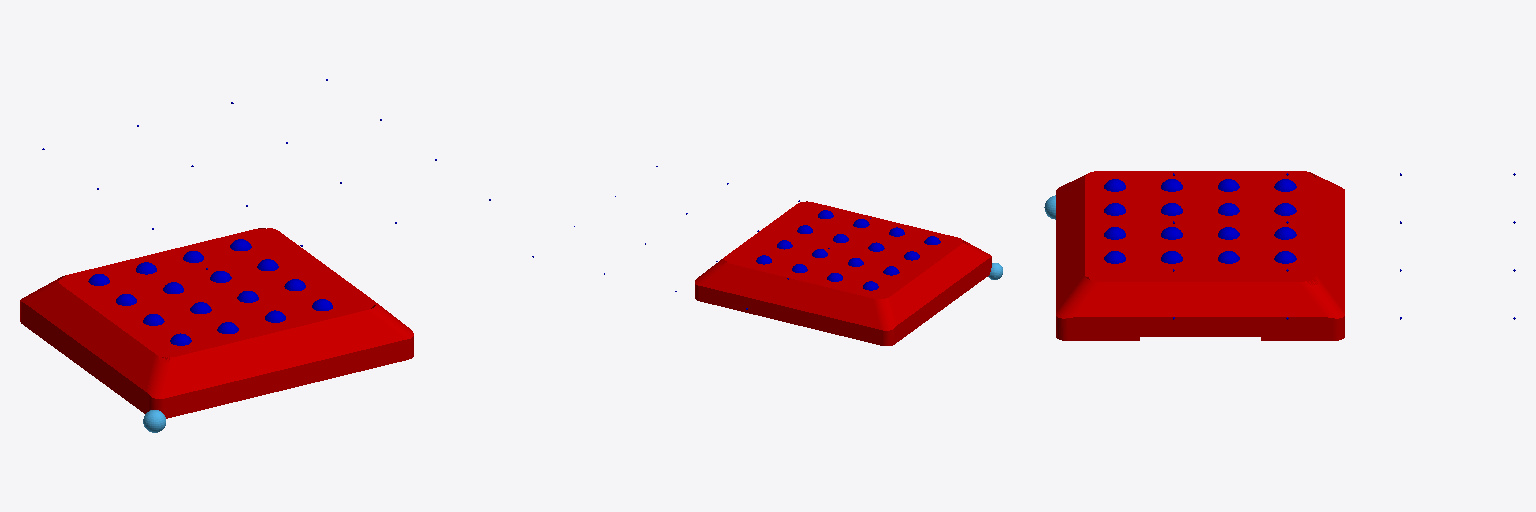
--- What the picture shows (computed from the rendered views, not written in the file) ---
The picture shows the robot from 3 angles, left to right: view 1: azimuth 30°, elevation 25°; view 2: azimuth 150°, elevation 25°; view 3: azimuth 270°, elevation 25°; orthographic projection.
Robot: 4x4 — 51 links, 50 joints (48 prismatic, 2 fixed); root link world; default pose: all joints at 0.
Links seen in each view (by area): view 1: 1_4x4_base_link; view 2: 1_4x4_base_link; view 3: 1_4x4_base_link.
Boxes of the visible links, x1,y1,x2,y2 form: 1_4x4_base_link: [20, 228, 413, 418]; 1_4x4_base_link: [695, 201, 991, 345]; 1_4x4_base_link: [1056, 171, 1344, 340].
Size in the robot's own frame: 0.0398 by 0.0387 by 0.0091 metres.
Meshes: 1 distinct files referenced, 1 mesh visuals loaded (1 binary STL).

The robot description file, URDF, robot "4x4":
<?xml version="1.0" ?>
<!-- =================================================================================== -->
<!-- |    This document was autogenerated by xacro from 4x4.xacro                      | -->
<!-- |    EDITING THIS FILE BY HAND IS NOT RECOMMENDED                                 | -->
<!-- =================================================================================== -->
<robot name="4x4">
  <!-- Rviz colors -->
  <material name="black">
    <color rgba="0.0 0.0 0.0 1.0"/>
  </material>
  <material name="blue">
    <color rgba="0.0 0.0 0.8 1.0"/>
  </material>
  <material name="green">
    <color rgba="0.0 0.8 0.0 1.0"/>
  </material>
  <material name="grey">
    <color rgba="0.2 0.2 0.2 1.0"/>
  </material>
  <material name="orange">
    <color rgba="1.0 0.4235294117647059 0.0392156862745098 1.0"/>
  </material>
  <material name="brown">
    <color rgba="0.8705882352941177 0.8117647058823529 0.7647058823529411 1.0"/>
  </material>
  <material name="red">
    <color rgba="0.8 0.0 0.0 1.0"/>
  </material>
  <material name="white">
    <color rgba="1.0 1.0 1.0 1.0"/>
  </material>
  <!-- Used for fixing robot to Gazebo 'base_link' -->
  <link name="world"/>
  <!-- Base Link -->
  <joint name="fixed" type="fixed">
    <parent link="world"/>
    <child link="base_link"/>
  </joint>
  <link name="base_link">
    <visual>
      <geometry>
        <sphere radius="0.001"/>
      </geometry>
      <origin rpy="0 0 0" xyz="0.0 0.0 0.0"/>
    </visual>
    <collision>
      <geometry>
        <sphere radius="0.001"/>
      </geometry>
    </collision>
  </link>
  <joint name="1_4x4_fixed" type="fixed">
    <origin rpy="0.0 0.0 0.0" xyz="0.0 0.0 0.0"/>
    <parent link="base_link"/>
    <child link="1_4x4_base_link"/>
  </joint>
  <link name="1_4x4_base_link">
    <collision>
      <origin rpy="0 0 0" xyz="0 0 0"/>
      <geometry>
        <mesh filename="package://xela_models/mesh/4x4.stl" scale="1 1 1"/>
      </geometry>
    </collision>
    <visual>
      <origin rpy="0 0 0" xyz="0 0 0"/>
      <geometry>
        <mesh filename="package://xela_models/mesh/4x4.stl" scale="1 1 1"/>
      </geometry>
      <material name="red"/>
    </visual>
  </link>
  <link name="1_4x4_1_taxel_base_link">
    <visual>
      <geometry>
        <sphere radius="0.001"/>
      </geometry>
      <origin rpy="0 0 0" xyz="0.0 0.0 0.0"/>
      <material name="blue"/>
    </visual>
    <collision>
      <geometry>
        <sphere radius="0.001"/>
      </geometry>
    </collision>
  </link>
  <link name="1_4x4_1_base2x">
    <visual>
      <geometry>
        <sphere radius="0.0001"/>
      </geometry>
      <origin rpy="0 0 0" xyz="0.0053666 0.018816640000000003 0.004"/>
      <material name="blue"/>
    </visual>
    <collision>
      <geometry>
        <sphere radius="0.0001"/>
      </geometry>
    </collision>
  </link>
  <link name="1_4x4_1_x2y">
    <visual>
      <geometry>
        <sphere radius="0.0001"/>
      </geometry>
      <origin rpy="0 0 0" xyz="0.0 0.0 0.0"/>
      <material name="blue"/>
    </visual>
    <collision>
      <geometry>
        <sphere radius="0.0001"/>
      </geometry>
    </collision>
  </link>
  <joint name="1_4x4_1_joint_x" type="prismatic">
    <origin rpy="0.0 0.0 0.0" xyz="0.0053666 0.018816640000000003 0.004"/>
    <parent link="1_4x4_base_link"/>
    <child link="1_4x4_1_base2x"/>
    <axis xyz="1 0 0"/>
    <limit effort="100.0" lower="-0.0015" upper="0.0015" velocity="0.5"/>
  </joint>
  <joint name="1_4x4_1_joint_y" type="prismatic">
    <origin rpy="0.0 0.0 0.0" xyz="0.0 0.0 0.0"/>
    <parent link="1_4x4_1_base2x"/>
    <child link="1_4x4_1_x2y"/>
    <axis xyz="0 1 0"/>
    <limit effort="100.0" lower="-0.0015" upper="0.0015" velocity="0.5"/>
  </joint>
  <joint name="1_4x4_1_joint_z" type="prismatic">
    <origin rpy="0.0 0.0 0.0" xyz="0.0 0.0 0.0"/>
    <parent link="1_4x4_1_x2y"/>
    <child link="1_4x4_1_taxel_base_link"/>
    <axis xyz="0 0 1"/>
    <limit effort="100.0" lower="-0.001" upper="0.000" velocity="0.5"/>
  </joint>
  <link name="1_4x4_2_taxel_base_link">
    <visual>
      <geometry>
        <sphere radius="0.001"/>
      </geometry>
      <origin rpy="0 0 0" xyz="0.0 0.0 0.0"/>
      <material name="blue"/>
    </visual>
    <collision>
      <geometry>
        <sphere radius="0.001"/>
      </geometry>
    </collision>
  </link>
  <link name="1_4x4_2_base2x">
    <visual>
      <geometry>
        <sphere radius="0.0001"/>
      </geometry>
      <origin rpy="0 0 0" xyz="0.010033199999999999 0.018816640000000003 0.004"/>
      <material name="blue"/>
    </visual>
    <collision>
      <geometry>
        <sphere radius="0.0001"/>
      </geometry>
    </collision>
  </link>
  <link name="1_4x4_2_x2y">
    <visual>
      <geometry>
        <sphere radius="0.0001"/>
      </geometry>
      <origin rpy="0 0 0" xyz="0.0 0.0 0.0"/>
      <material name="blue"/>
    </visual>
    <collision>
      <geometry>
        <sphere radius="0.0001"/>
      </geometry>
    </collision>
  </link>
  <joint name="1_4x4_2_joint_x" type="prismatic">
    <origin rpy="0.0 0.0 0.0" xyz="0.010033199999999999 0.018816640000000003 0.004"/>
    <parent link="1_4x4_base_link"/>
    <child link="1_4x4_2_base2x"/>
    <axis xyz="1 0 0"/>
    <limit effort="100.0" lower="-0.0015" upper="0.0015" velocity="0.5"/>
  </joint>
  <joint name="1_4x4_2_joint_y" type="prismatic">
    <origin rpy="0.0 0.0 0.0" xyz="0.0 0.0 0.0"/>
    <parent link="1_4x4_2_base2x"/>
    <child link="1_4x4_2_x2y"/>
    <axis xyz="0 1 0"/>
    <limit effort="100.0" lower="-0.0015" upper="0.0015" velocity="0.5"/>
  </joint>
  <joint name="1_4x4_2_joint_z" type="prismatic">
    <origin rpy="0.0 0.0 0.0" xyz="0.0 0.0 0.0"/>
    <parent link="1_4x4_2_x2y"/>
    <child link="1_4x4_2_taxel_base_link"/>
    <axis xyz="0 0 1"/>
    <limit effort="100.0" lower="-0.001" upper="0.000" velocity="0.5"/>
  </joint>
  <link name="1_4x4_3_taxel_base_link">
    <visual>
      <geometry>
        <sphere radius="0.001"/>
      </geometry>
      <origin rpy="0 0 0" xyz="0.0 0.0 0.0"/>
      <material name="blue"/>
    </visual>
    <collision>
      <geometry>
        <sphere radius="0.001"/>
      </geometry>
    </collision>
  </link>
  <link name="1_4x4_3_base2x">
    <visual>
      <geometry>
        <sphere radius="0.0001"/>
      </geometry>
      <origin rpy="0 0 0" xyz="0.014699799999999999 0.018816640000000003 0.004"/>
      <material name="blue"/>
    </visual>
    <collision>
      <geometry>
        <sphere radius="0.0001"/>
      </geometry>
    </collision>
  </link>
  <link name="1_4x4_3_x2y">
    <visual>
      <geometry>
        <sphere radius="0.0001"/>
      </geometry>
      <origin rpy="0 0 0" xyz="0.0 0.0 0.0"/>
      <material name="blue"/>
    </visual>
    <collision>
      <geometry>
        <sphere radius="0.0001"/>
      </geometry>
    </collision>
  </link>
  <joint name="1_4x4_3_joint_x" type="prismatic">
    <origin rpy="0.0 0.0 0.0" xyz="0.014699799999999999 0.018816640000000003 0.004"/>
    <parent link="1_4x4_base_link"/>
    <child link="1_4x4_3_base2x"/>
    <axis xyz="1 0 0"/>
    <limit effort="100.0" lower="-0.0015" upper="0.0015" velocity="0.5"/>
  </joint>
  <joint name="1_4x4_3_joint_y" type="prismatic">
    <origin rpy="0.0 0.0 0.0" xyz="0.0 0.0 0.0"/>
    <parent link="1_4x4_3_base2x"/>
    <child link="1_4x4_3_x2y"/>
    <axis xyz="0 1 0"/>
    <limit effort="100.0" lower="-0.0015" upper="0.0015" velocity="0.5"/>
  </joint>
  <joint name="1_4x4_3_joint_z" type="prismatic">
    <origin rpy="0.0 0.0 0.0" xyz="0.0 0.0 0.0"/>
    <parent link="1_4x4_3_x2y"/>
    <child link="1_4x4_3_taxel_base_link"/>
    <axis xyz="0 0 1"/>
    <limit effort="100.0" lower="-0.001" upper="0.000" velocity="0.5"/>
  </joint>
  <link name="1_4x4_4_taxel_base_link">
    <visual>
      <geometry>
        <sphere radius="0.001"/>
      </geometry>
      <origin rpy="0 0 0" xyz="0.0 0.0 0.0"/>
      <material name="blue"/>
    </visual>
    <collision>
      <geometry>
        <sphere radius="0.001"/>
      </geometry>
    </collision>
  </link>
  <link name="1_4x4_4_base2x">
    <visual>
      <geometry>
        <sphere radius="0.0001"/>
      </geometry>
      <origin rpy="0 0 0" xyz="0.0193664 0.018816640000000003 0.004"/>
      <material name="blue"/>
    </visual>
    <collision>
      <geometry>
        <sphere radius="0.0001"/>
      </geometry>
    </collision>
  </link>
  <link name="1_4x4_4_x2y">
    <visual>
      <geometry>
        <sphere radius="0.0001"/>
      </geometry>
      <origin rpy="0 0 0" xyz="0.0 0.0 0.0"/>
      <material name="blue"/>
    </visual>
    <collision>
      <geometry>
        <sphere radius="0.0001"/>
      </geometry>
    </collision>
  </link>
  <joint name="1_4x4_4_joint_x" type="prismatic">
    <origin rpy="0.0 0.0 0.0" xyz="0.0193664 0.018816640000000003 0.004"/>
    <parent link="1_4x4_base_link"/>
    <child link="1_4x4_4_base2x"/>
    <axis xyz="1 0 0"/>
    <limit effort="100.0" lower="-0.0015" upper="0.0015" velocity="0.5"/>
  </joint>
  <joint name="1_4x4_4_joint_y" type="prismatic">
    <origin rpy="0.0 0.0 0.0" xyz="0.0 0.0 0.0"/>
    <parent link="1_4x4_4_base2x"/>
    <child link="1_4x4_4_x2y"/>
    <axis xyz="0 1 0"/>
    <limit effort="100.0" lower="-0.0015" upper="0.0015" velocity="0.5"/>
  </joint>
  <joint name="1_4x4_4_joint_z" type="prismatic">
    <origin rpy="0.0 0.0 0.0" xyz="0.0 0.0 0.0"/>
    <parent link="1_4x4_4_x2y"/>
    <child link="1_4x4_4_taxel_base_link"/>
    <axis xyz="0 0 1"/>
    <limit effort="100.0" lower="-0.001" upper="0.000" velocity="0.5"/>
  </joint>
  <link name="1_4x4_5_taxel_base_link">
    <visual>
      <geometry>
        <sphere radius="0.001"/>
      </geometry>
      <origin rpy="0 0 0" xyz="0.0 0.0 0.0"/>
      <material name="blue"/>
    </visual>
    <collision>
      <geometry>
        <sphere radius="0.001"/>
      </geometry>
    </collision>
  </link>
  <link name="1_4x4_5_base2x">
    <visual>
      <geometry>
        <sphere radius="0.0001"/>
      </geometry>
      <origin rpy="0 0 0" xyz="0.0053666 0.014149980000000003 0.004"/>
      <material name="blue"/>
    </visual>
    <collision>
      <geometry>
        <sphere radius="0.0001"/>
      </geometry>
    </collision>
  </link>
  <link name="1_4x4_5_x2y">
    <visual>
      <geometry>
        <sphere radius="0.0001"/>
      </geometry>
      <origin rpy="0 0 0" xyz="0.0 0.0 0.0"/>
      <material name="blue"/>
    </visual>
    <collision>
      <geometry>
        <sphere radius="0.0001"/>
      </geometry>
    </collision>
  </link>
  <joint name="1_4x4_5_joint_x" type="prismatic">
    <origin rpy="0.0 0.0 0.0" xyz="0.0053666 0.014149980000000003 0.004"/>
    <parent link="1_4x4_base_link"/>
    <child link="1_4x4_5_base2x"/>
    <axis xyz="1 0 0"/>
    <limit effort="100.0" lower="-0.0015" upper="0.0015" velocity="0.5"/>
  </joint>
  <joint name="1_4x4_5_joint_y" type="prismatic">
    <origin rpy="0.0 0.0 0.0" xyz="0.0 0.0 0.0"/>
    <parent link="1_4x4_5_base2x"/>
    <child link="1_4x4_5_x2y"/>
    <axis xyz="0 1 0"/>
    <limit effort="100.0" lower="-0.0015" upper="0.0015" velocity="0.5"/>
  </joint>
  <joint name="1_4x4_5_joint_z" type="prismatic">
    <origin rpy="0.0 0.0 0.0" xyz="0.0 0.0 0.0"/>
    <parent link="1_4x4_5_x2y"/>
    <child link="1_4x4_5_taxel_base_link"/>
    <axis xyz="0 0 1"/>
    <limit effort="100.0" lower="-0.001" upper="0.000" velocity="0.5"/>
  </joint>
  <link name="1_4x4_6_taxel_base_link">
    <visual>
      <geometry>
        <sphere radius="0.001"/>
      </geometry>
      <origin rpy="0 0 0" xyz="0.0 0.0 0.0"/>
      <material name="blue"/>
    </visual>
    <collision>
      <geometry>
        <sphere radius="0.001"/>
      </geometry>
    </collision>
  </link>
  <link name="1_4x4_6_base2x">
    <visual>
      <geometry>
        <sphere radius="0.0001"/>
      </geometry>
      <origin rpy="0 0 0" xyz="0.010033199999999999 0.014149980000000003 0.004"/>
      <material name="blue"/>
    </visual>
    <collision>
      <geometry>
        <sphere radius="0.0001"/>
      </geometry>
    </collision>
  </link>
  <link name="1_4x4_6_x2y">
    <visual>
      <geometry>
        <sphere radius="0.0001"/>
      </geometry>
      <origin rpy="0 0 0" xyz="0.0 0.0 0.0"/>
      <material name="blue"/>
    </visual>
    <collision>
      <geometry>
        <sphere radius="0.0001"/>
      </geometry>
    </collision>
  </link>
  <joint name="1_4x4_6_joint_x" type="prismatic">
    <origin rpy="0.0 0.0 0.0" xyz="0.010033199999999999 0.014149980000000003 0.004"/>
    <parent link="1_4x4_base_link"/>
    <child link="1_4x4_6_base2x"/>
    <axis xyz="1 0 0"/>
    <limit effort="100.0" lower="-0.0015" upper="0.0015" velocity="0.5"/>
  </joint>
  <joint name="1_4x4_6_joint_y" type="prismatic">
    <origin rpy="0.0 0.0 0.0" xyz="0.0 0.0 0.0"/>
    <parent link="1_4x4_6_base2x"/>
    <child link="1_4x4_6_x2y"/>
    <axis xyz="0 1 0"/>
    <limit effort="100.0" lower="-0.0015" upper="0.0015" velocity="0.5"/>
  </joint>
  <joint name="1_4x4_6_joint_z" type="prismatic">
    <origin rpy="0.0 0.0 0.0" xyz="0.0 0.0 0.0"/>
    <parent link="1_4x4_6_x2y"/>
    <child link="1_4x4_6_taxel_base_link"/>
    <axis xyz="0 0 1"/>
    <limit effort="100.0" lower="-0.001" upper="0.000" velocity="0.5"/>
  </joint>
  <link name="1_4x4_7_taxel_base_link">
    <visual>
      <geometry>
        <sphere radius="0.001"/>
      </geometry>
      <origin rpy="0 0 0" xyz="0.0 0.0 0.0"/>
      <material name="blue"/>
    </visual>
    <collision>
      <geometry>
        <sphere radius="0.001"/>
      </geometry>
    </collision>
  </link>
  <link name="1_4x4_7_base2x">
    <visual>
      <geometry>
        <sphere radius="0.0001"/>
      </geometry>
      <origin rpy="0 0 0" xyz="0.014699799999999999 0.014149980000000003 0.004"/>
      <material name="blue"/>
    </visual>
    <collision>
      <geometry>
        <sphere radius="0.0001"/>
      </geometry>
    </collision>
  </link>
  <link name="1_4x4_7_x2y">
    <visual>
      <geometry>
        <sphere radius="0.0001"/>
      </geometry>
      <origin rpy="0 0 0" xyz="0.0 0.0 0.0"/>
      <material name="blue"/>
    </visual>
    <collision>
      <geometry>
        <sphere radius="0.0001"/>
      </geometry>
    </collision>
  </link>
  <joint name="1_4x4_7_joint_x" type="prismatic">
    <origin rpy="0.0 0.0 0.0" xyz="0.014699799999999999 0.014149980000000003 0.004"/>
    <parent link="1_4x4_base_link"/>
    <child link="1_4x4_7_base2x"/>
    <axis xyz="1 0 0"/>
    <limit effort="100.0" lower="-0.0015" upper="0.0015" velocity="0.5"/>
  </joint>
  <joint name="1_4x4_7_joint_y" type="prismatic">
    <origin rpy="0.0 0.0 0.0" xyz="0.0 0.0 0.0"/>
    <parent link="1_4x4_7_base2x"/>
    <child link="1_4x4_7_x2y"/>
    <axis xyz="0 1 0"/>
    <limit effort="100.0" lower="-0.0015" upper="0.0015" velocity="0.5"/>
  </joint>
  <joint name="1_4x4_7_joint_z" type="prismatic">
    <origin rpy="0.0 0.0 0.0" xyz="0.0 0.0 0.0"/>
    <parent link="1_4x4_7_x2y"/>
    <child link="1_4x4_7_taxel_base_link"/>
    <axis xyz="0 0 1"/>
    <limit effort="100.0" lower="-0.001" upper="0.000" velocity="0.5"/>
  </joint>
  <link name="1_4x4_8_taxel_base_link">
    <visual>
      <geometry>
        <sphere radius="0.001"/>
      </geometry>
      <origin rpy="0 0 0" xyz="0.0 0.0 0.0"/>
      <material name="blue"/>
    </visual>
    <collision>
      <geometry>
        <sphere radius="0.001"/>
      </geometry>
    </collision>
  </link>
  <link name="1_4x4_8_base2x">
    <visual>
      <geometry>
        <sphere radius="0.0001"/>
      </geometry>
      <origin rpy="0 0 0" xyz="0.0193664 0.014149980000000003 0.004"/>
      <material name="blue"/>
    </visual>
    <collision>
      <geometry>
        <sphere radius="0.0001"/>
      </geometry>
    </collision>
  </link>
  <link name="1_4x4_8_x2y">
    <visual>
      <geometry>
        <sphere radius="0.0001"/>
      </geometry>
      <origin rpy="0 0 0" xyz="0.0 0.0 0.0"/>
      <material name="blue"/>
    </visual>
    <collision>
      <geometry>
        <sphere radius="0.0001"/>
      </geometry>
    </collision>
  </link>
  <joint name="1_4x4_8_joint_x" type="prismatic">
    <origin rpy="0.0 0.0 0.0" xyz="0.0193664 0.014149980000000003 0.004"/>
    <parent link="1_4x4_base_link"/>
    <child link="1_4x4_8_base2x"/>
    <axis xyz="1 0 0"/>
    <limit effort="100.0" lower="-0.0015" upper="0.0015" velocity="0.5"/>
  </joint>
  <joint name="1_4x4_8_joint_y" type="prismatic">
    <origin rpy="0.0 0.0 0.0" xyz="0.0 0.0 0.0"/>
    <parent link="1_4x4_8_base2x"/>
    <child link="1_4x4_8_x2y"/>
    <axis xyz="0 1 0"/>
    <limit effort="100.0" lower="-0.0015" upper="0.0015" velocity="0.5"/>
  </joint>
  <joint name="1_4x4_8_joint_z" type="prismatic">
    <origin rpy="0.0 0.0 0.0" xyz="0.0 0.0 0.0"/>
    <parent link="1_4x4_8_x2y"/>
    <child link="1_4x4_8_taxel_base_link"/>
    <axis xyz="0 0 1"/>
    <limit effort="100.0" lower="-0.001" upper="0.000" velocity="0.5"/>
  </joint>
  <link name="1_4x4_9_taxel_base_link">
    <visual>
      <geometry>
        <sphere radius="0.001"/>
      </geometry>
      <origin rpy="0 0 0" xyz="0.0 0.0 0.0"/>
      <material name="blue"/>
    </visual>
    <collision>
      <geometry>
        <sphere radius="0.001"/>
      </geometry>
    </collision>
  </link>
  <link name="1_4x4_9_base2x">
    <visual>
      <geometry>
        <sphere radius="0.0001"/>
      </geometry>
      <origin rpy="0 0 0" xyz="0.0053666 0.009483320000000002 0.004"/>
      <material name="blue"/>
    </visual>
    <collision>
      <geometry>
        <sphere radius="0.0001"/>
      </geometry>
    </collision>
  </link>
  <link name="1_4x4_9_x2y">
    <visual>
      <geometry>
        <sphere radius="0.0001"/>
      </geometry>
      <origin rpy="0 0 0" xyz="0.0 0.0 0.0"/>
      <material name="blue"/>
    </visual>
    <collision>
      <geometry>
        <sphere radius="0.0001"/>
      </geometry>
    </collision>
  </link>
  <joint name="1_4x4_9_joint_x" type="prismatic">
    <origin rpy="0.0 0.0 0.0" xyz="0.0053666 0.009483320000000002 0.004"/>
    <parent link="1_4x4_base_link"/>
    <child link="1_4x4_9_base2x"/>
    <axis xyz="1 0 0"/>
    <limit effort="100.0" lower="-0.0015" upper="0.0015" velocity="0.5"/>
  </joint>
  <joint name="1_4x4_9_joint_y" type="prismatic">
    <origin rpy="0.0 0.0 0.0" xyz="0.0 0.0 0.0"/>
    <parent link="1_4x4_9_base2x"/>
    <child link="1_4x4_9_x2y"/>
    <axis xyz="0 1 0"/>
    <limit effort="100.0" lower="-0.0015" upper="0.0015" velocity="0.5"/>
  </joint>
  <joint name="1_4x4_9_joint_z" type="prismatic">
    <origin rpy="0.0 0.0 0.0" xyz="0.0 0.0 0.0"/>
    <parent link="1_4x4_9_x2y"/>
    <child link="1_4x4_9_taxel_base_link"/>
    <axis xyz="0 0 1"/>
    <limit effort="100.0" lower="-0.001" upper="0.000" velocity="0.5"/>
  </joint>
  <link name="1_4x4_10_taxel_base_link">
    <visual>
      <geometry>
        <sphere radius="0.001"/>
      </geometry>
      <origin rpy="0 0 0" xyz="0.0 0.0 0.0"/>
      <material name="blue"/>
    </visual>
    <collision>
      <geometry>
        <sphere radius="0.001"/>
      </geometry>
    </collision>
  </link>
  <link name="1_4x4_10_base2x">
    <visual>
      <geometry>
        <sphere radius="0.0001"/>
      </geometry>
      <origin rpy="0 0 0" xyz="0.010033199999999999 0.009483320000000002 0.004"/>
      <material name="blue"/>
    </visual>
    <collision>
      <geometry>
        <sphere radius="0.0001"/>
      </geometry>
    </collision>
  </link>
  <link name="1_4x4_10_x2y">
    <visual>
      <geometry>
        <sphere radius="0.0001"/>
      </geometry>
      <origin rpy="0 0 0" xyz="0.0 0.0 0.0"/>
      <material name="blue"/>
    </visual>
    <collision>
      <geometry>
        <sphere radius="0.0001"/>
      </geometry>
    </collision>
  </link>
  <joint name="1_4x4_10_joint_x" type="prismatic">
    <origin rpy="0.0 0.0 0.0" xyz="0.010033199999999999 0.009483320000000002 0.004"/>
    <parent link="1_4x4_base_link"/>
    <child link="1_4x4_10_base2x"/>
    <axis xyz="1 0 0"/>
    <limit effort="100.0" lower="-0.0015" upper="0.0015" velocity="0.5"/>
  </joint>
  <joint name="1_4x4_10_joint_y" type="prismatic">
    <origin rpy="0.0 0.0 0.0" xyz="0.0 0.0 0.0"/>
    <parent link="1_4x4_10_base2x"/>
    <child link="1_4x4_10_x2y"/>
    <axis xyz="0 1 0"/>
    <limit effort="100.0" lower="-0.0015" upper="0.0015" velocity="0.5"/>
  </joint>
  <joint name="1_4x4_10_joint_z" type="prismatic">
    <origin rpy="0.0 0.0 0.0" xyz="0.0 0.0 0.0"/>
    <parent link="1_4x4_10_x2y"/>
    <child link="1_4x4_10_taxel_base_link"/>
    <axis xyz="0 0 1"/>
    <limit effort="100.0" lower="-0.001" upper="0.000" velocity="0.5"/>
  </joint>
  <link name="1_4x4_11_taxel_base_link">
    <visual>
      <geometry>
        <sphere radius="0.001"/>
      </geometry>
      <origin rpy="0 0 0" xyz="0.0 0.0 0.0"/>
      <material name="blue"/>
    </visual>
    <collision>
      <geometry>
        <sphere radius="0.001"/>
      </geometry>
    </collision>
  </link>
  <link name="1_4x4_11_base2x">
    <visual>
      <geometry>
        <sphere radius="0.0001"/>
      </geometry>
      <origin rpy="0 0 0" xyz="0.014699799999999999 0.009483320000000002 0.004"/>
      <material name="blue"/>
    </visual>
    <collision>
      <geometry>
        <sphere radius="0.0001"/>
      </geometry>
    </collision>
  </link>
  <link name="1_4x4_11_x2y">
    <visual>
      <geometry>
        <sphere radius="0.0001"/>
      </geometry>
      <origin rpy="0 0 0" xyz="0.0 0.0 0.0"/>
      <material name="blue"/>
    </visual>
    <collision>
      <geometry>
        <sphere radius="0.0001"/>
      </geometry>
    </collision>
  </link>
  <joint name="1_4x4_11_joint_x" type="prismatic">
    <origin rpy="0.0 0.0 0.0" xyz="0.014699799999999999 0.009483320000000002 0.004"/>
    <parent link="1_4x4_base_link"/>
    <child link="1_4x4_11_base2x"/>
    <axis xyz="1 0 0"/>
    <limit effort="100.0" lower="-0.0015" upper="0.0015" velocity="0.5"/>
  </joint>
  <joint name="1_4x4_11_joint_y" type="prismatic">
    <origin rpy="0.0 0.0 0.0" xyz="0.0 0.0 0.0"/>
    <parent link="1_4x4_11_base2x"/>
    <child link="1_4x4_11_x2y"/>
    <axis xyz="0 1 0"/>
    <limit effort="100.0" lower="-0.0015" upper="0.0015" velocity="0.5"/>
  </joint>
  <joint name="1_4x4_11_joint_z" type="prismatic">
    <origin rpy="0.0 0.0 0.0" xyz="0.0 0.0 0.0"/>
    <parent link="1_4x4_11_x2y"/>
    <child link="1_4x4_11_taxel_base_link"/>
    <axis xyz="0 0 1"/>
    <limit effort="100.0" lower="-0.001" upper="0.000" velocity="0.5"/>
  </joint>
  <link name="1_4x4_12_taxel_base_link">
    <visual>
      <geometry>
        <sphere radius="0.001"/>
      </geometry>
      <origin rpy="0 0 0" xyz="0.0 0.0 0.0"/>
      <material name="blue"/>
    </visual>
    <collision>
      <geometry>
        <sphere radius="0.001"/>
      </geometry>
    </collision>
  </link>
  <link name="1_4x4_12_base2x">
    <visual>
      <geometry>
        <sphere radius="0.0001"/>
      </geometry>
      <origin rpy="0 0 0" xyz="0.0193664 0.009483320000000002 0.004"/>
      <material name="blue"/>
    </visual>
    <collision>
      <geometry>
        <sphere radius="0.0001"/>
      </geometry>
    </collision>
  </link>
  <link name="1_4x4_12_x2y">
    <visual>
      <geometry>
        <sphere radius="0.0001"/>
      </geometry>
      <origin rpy="0 0 0" xyz="0.0 0.0 0.0"/>
      <material name="blue"/>
    </visual>
    <collision>
      <geometry>
        <sphere radius="0.0001"/>
      </geometry>
    </collision>
  </link>
  <joint name="1_4x4_12_joint_x" type="prismatic">
    <origin rpy="0.0 0.0 0.0" xyz="0.0193664 0.009483320000000002 0.004"/>
    <parent link="1_4x4_base_link"/>
    <child link="1_4x4_12_base2x"/>
    <axis xyz="1 0 0"/>
    <limit effort="100.0" lower="-0.0015" upper="0.0015" velocity="0.5"/>
  </joint>
  <joint name="1_4x4_12_joint_y" type="prismatic">
    <origin rpy="0.0 0.0 0.0" xyz="0.0 0.0 0.0"/>
    <parent link="1_4x4_12_base2x"/>
    <child link="1_4x4_12_x2y"/>
    <axis xyz="0 1 0"/>
    <limit effort="100.0" lower="-0.0015" upper="0.0015" velocity="0.5"/>
  </joint>
  <joint name="1_4x4_12_joint_z" type="prismatic">
    <origin rpy="0.0 0.0 0.0" xyz="0.0 0.0 0.0"/>
    <parent link="1_4x4_12_x2y"/>
    <child link="1_4x4_12_taxel_base_link"/>
    <axis xyz="0 0 1"/>
    <limit effort="100.0" lower="-0.001" upper="0.000" velocity="0.5"/>
  </joint>
  <link name="1_4x4_13_taxel_base_link">
    <visual>
      <geometry>
        <sphere radius="0.001"/>
      </geometry>
      <origin rpy="0 0 0" xyz="0.0 0.0 0.0"/>
      <material name="blue"/>
    </visual>
    <collision>
      <geometry>
        <sphere radius="0.001"/>
      </geometry>
    </collision>
  </link>
  <link name="1_4x4_13_base2x">
    <visual>
      <geometry>
        <sphere radius="0.0001"/>
      </geometry>
      <origin rpy="0 0 0" xyz="0.0053666 0.00481666 0.004"/>
      <material name="blue"/>
    </visual>
    <collision>
      <geometry>
        <sphere radius="0.0001"/>
      </geometry>
    </collision>
  </link>
  <link name="1_4x4_13_x2y">
    <visual>
      <geometry>
        <sphere radius="0.0001"/>
      </geometry>
      <origin rpy="0 0 0" xyz="0.0 0.0 0.0"/>
      <material name="blue"/>
    </visual>
    <collision>
      <geometry>
        <sphere radius="0.0001"/>
      </geometry>
    </collision>
  </link>
  <joint name="1_4x4_13_joint_x" type="prismatic">
    <origin rpy="0.0 0.0 0.0" xyz="0.0053666 0.00481666 0.004"/>
    <parent link="1_4x4_base_link"/>
    <child link="1_4x4_13_base2x"/>
    <axis xyz="1 0 0"/>
    <limit effort="100.0" lower="-0.0015" upper="0.0015" velocity="0.5"/>
  </joint>
  <joint name="1_4x4_13_joint_y" type="prismatic">
    <origin rpy="0.0 0.0 0.0" xyz="0.0 0.0 0.0"/>
    <parent link="1_4x4_13_base2x"/>
    <child link="1_4x4_13_x2y"/>
    <axis xyz="0 1 0"/>
    <limit effort="100.0" lower="-0.0015" upper="0.0015" velocity="0.5"/>
  </joint>
  <joint name="1_4x4_13_joint_z" type="prismatic">
    <origin rpy="0.0 0.0 0.0" xyz="0.0 0.0 0.0"/>
    <parent link="1_4x4_13_x2y"/>
    <child link="1_4x4_13_taxel_base_link"/>
    <axis xyz="0 0 1"/>
    <limit effort="100.0" lower="-0.001" upper="0.000" velocity="0.5"/>
  </joint>
  <link name="1_4x4_14_taxel_base_link">
    <visual>
      <geometry>
        <sphere radius="0.001"/>
      </geometry>
      <origin rpy="0 0 0" xyz="0.0 0.0 0.0"/>
      <material name="blue"/>
    </visual>
    <collision>
      <geometry>
        <sphere radius="0.001"/>
      </geometry>
    </collision>
  </link>
  <link name="1_4x4_14_base2x">
    <visual>
      <geometry>
        <sphere radius="0.0001"/>
      </geometry>
      <origin rpy="0 0 0" xyz="0.010033199999999999 0.00481666 0.004"/>
      <material name="blue"/>
    </visual>
    <collision>
      <geometry>
        <sphere radius="0.0001"/>
      </geometry>
    </collision>
  </link>
  <link name="1_4x4_14_x2y">
    <visual>
      <geometry>
        <sphere radius="0.0001"/>
      </geometry>
      <origin rpy="0 0 0" xyz="0.0 0.0 0.0"/>
      <material name="blue"/>
    </visual>
    <collision>
      <geometry>
        <sphere radius="0.0001"/>
      </geometry>
    </collision>
  </link>
  <joint name="1_4x4_14_joint_x" type="prismatic">
    <origin rpy="0.0 0.0 0.0" xyz="0.010033199999999999 0.00481666 0.004"/>
    <parent link="1_4x4_base_link"/>
    <child link="1_4x4_14_base2x"/>
    <axis xyz="1 0 0"/>
    <limit effort="100.0" lower="-0.0015" upper="0.0015" velocity="0.5"/>
  </joint>
  <joint name="1_4x4_14_joint_y" type="prismatic">
    <origin rpy="0.0 0.0 0.0" xyz="0.0 0.0 0.0"/>
    <parent link="1_4x4_14_base2x"/>
    <child link="1_4x4_14_x2y"/>
    <axis xyz="0 1 0"/>
    <limit effort="100.0" lower="-0.0015" upper="0.0015" velocity="0.5"/>
  </joint>
  <joint name="1_4x4_14_joint_z" type="prismatic">
    <origin rpy="0.0 0.0 0.0" xyz="0.0 0.0 0.0"/>
    <parent link="1_4x4_14_x2y"/>
    <child link="1_4x4_14_taxel_base_link"/>
    <axis xyz="0 0 1"/>
    <limit effort="100.0" lower="-0.001" upper="0.000" velocity="0.5"/>
  </joint>
  <link name="1_4x4_15_taxel_base_link">
    <visual>
      <geometry>
        <sphere radius="0.001"/>
      </geometry>
      <origin rpy="0 0 0" xyz="0.0 0.0 0.0"/>
      <material name="blue"/>
    </visual>
    <collision>
      <geometry>
        <sphere radius="0.001"/>
      </geometry>
    </collision>
  </link>
  <link name="1_4x4_15_base2x">
    <visual>
      <geometry>
        <sphere radius="0.0001"/>
      </geometry>
      <origin rpy="0 0 0" xyz="0.014699799999999999 0.00481666 0.004"/>
      <material name="blue"/>
    </visual>
    <collision>
      <geometry>
        <sphere radius="0.0001"/>
      </geometry>
    </collision>
  </link>
  <link name="1_4x4_15_x2y">
    <visual>
      <geometry>
        <sphere radius="0.0001"/>
      </geometry>
      <origin rpy="0 0 0" xyz="0.0 0.0 0.0"/>
      <material name="blue"/>
    </visual>
    <collision>
      <geometry>
        <sphere radius="0.0001"/>
      </geometry>
    </collision>
  </link>
  <joint name="1_4x4_15_joint_x" type="prismatic">
    <origin rpy="0.0 0.0 0.0" xyz="0.014699799999999999 0.00481666 0.004"/>
    <parent link="1_4x4_base_link"/>
    <child link="1_4x4_15_base2x"/>
    <axis xyz="1 0 0"/>
    <limit effort="100.0" lower="-0.0015" upper="0.0015" velocity="0.5"/>
  </joint>
  <joint name="1_4x4_15_joint_y" type="prismatic">
    <origin rpy="0.0 0.0 0.0" xyz="0.0 0.0 0.0"/>
    <parent link="1_4x4_15_base2x"/>
    <child link="1_4x4_15_x2y"/>
    <axis xyz="0 1 0"/>
    <limit effort="100.0" lower="-0.0015" upper="0.0015" velocity="0.5"/>
  </joint>
  <joint name="1_4x4_15_joint_z" type="prismatic">
    <origin rpy="0.0 0.0 0.0" xyz="0.0 0.0 0.0"/>
    <parent link="1_4x4_15_x2y"/>
    <child link="1_4x4_15_taxel_base_link"/>
    <axis xyz="0 0 1"/>
    <limit effort="100.0" lower="-0.001" upper="0.000" velocity="0.5"/>
  </joint>
  <link name="1_4x4_16_taxel_base_link">
    <visual>
      <geometry>
        <sphere radius="0.001"/>
      </geometry>
      <origin rpy="0 0 0" xyz="0.0 0.0 0.0"/>
      <material name="blue"/>
    </visual>
    <collision>
      <geometry>
        <sphere radius="0.001"/>
      </geometry>
    </collision>
  </link>
  <link name="1_4x4_16_base2x">
    <visual>
      <geometry>
        <sphere radius="0.0001"/>
      </geometry>
      <origin rpy="0 0 0" xyz="0.0193664 0.00481666 0.004"/>
      <material name="blue"/>
    </visual>
    <collision>
      <geometry>
        <sphere radius="0.0001"/>
      </geometry>
    </collision>
  </link>
  <link name="1_4x4_16_x2y">
    <visual>
      <geometry>
        <sphere radius="0.0001"/>
      </geometry>
      <origin rpy="0 0 0" xyz="0.0 0.0 0.0"/>
      <material name="blue"/>
    </visual>
    <collision>
      <geometry>
        <sphere radius="0.0001"/>
      </geometry>
    </collision>
  </link>
  <joint name="1_4x4_16_joint_x" type="prismatic">
    <origin rpy="0.0 0.0 0.0" xyz="0.0193664 0.00481666 0.004"/>
    <parent link="1_4x4_base_link"/>
    <child link="1_4x4_16_base2x"/>
    <axis xyz="1 0 0"/>
    <limit effort="100.0" lower="-0.0015" upper="0.0015" velocity="0.5"/>
  </joint>
  <joint name="1_4x4_16_joint_y" type="prismatic">
    <origin rpy="0.0 0.0 0.0" xyz="0.0 0.0 0.0"/>
    <parent link="1_4x4_16_base2x"/>
    <child link="1_4x4_16_x2y"/>
    <axis xyz="0 1 0"/>
    <limit effort="100.0" lower="-0.0015" upper="0.0015" velocity="0.5"/>
  </joint>
  <joint name="1_4x4_16_joint_z" type="prismatic">
    <origin rpy="0.0 0.0 0.0" xyz="0.0 0.0 0.0"/>
    <parent link="1_4x4_16_x2y"/>
    <child link="1_4x4_16_taxel_base_link"/>
    <axis xyz="0 0 1"/>
    <limit effort="100.0" lower="-0.001" upper="0.000" velocity="0.5"/>
  </joint>
</robot>
